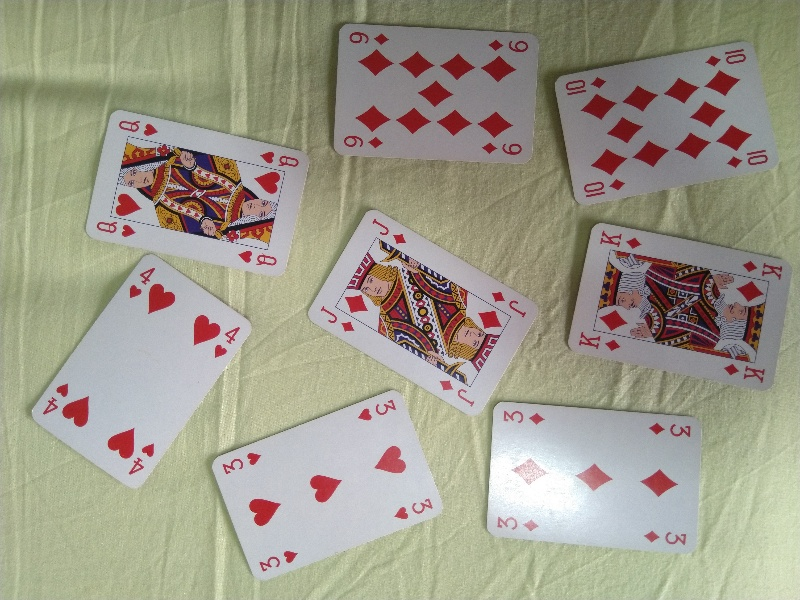3d: (493, 513, 544, 533), (646, 420, 694, 440), (641, 528, 690, 547), (500, 409, 547, 428)
3h: (255, 547, 298, 575), (390, 496, 438, 521), (220, 448, 262, 476), (357, 397, 399, 423)
4h: (125, 442, 159, 476), (127, 264, 158, 299), (213, 324, 243, 359), (40, 382, 70, 417)
9d: (480, 137, 526, 159), (339, 133, 388, 153), (486, 35, 532, 56), (346, 30, 394, 48)
Jd: (370, 214, 409, 248), (489, 288, 529, 319), (438, 375, 476, 407), (318, 305, 359, 334)
Kd: (572, 331, 624, 355), (722, 360, 767, 385), (596, 228, 643, 251), (741, 258, 785, 280)
Qh: (93, 218, 139, 241), (237, 247, 280, 270), (116, 116, 158, 139), (257, 150, 301, 169)
Td: (704, 47, 750, 69), (724, 147, 769, 169), (581, 177, 628, 198), (565, 74, 609, 95)
